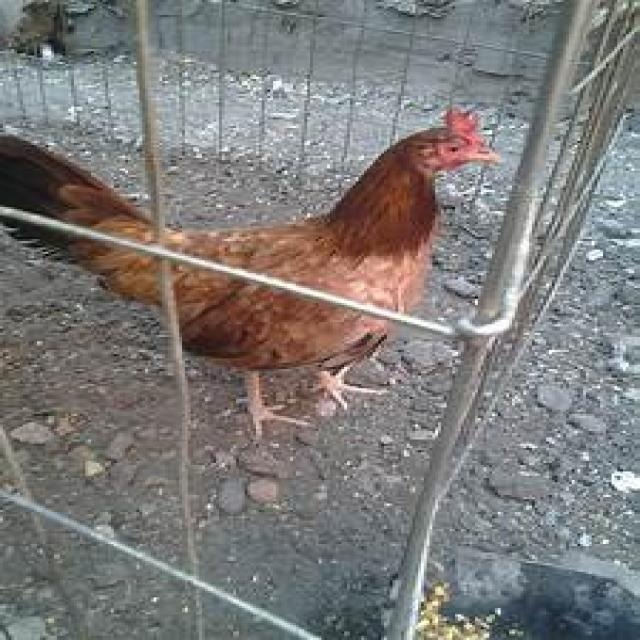hen: (0, 107, 501, 442)
